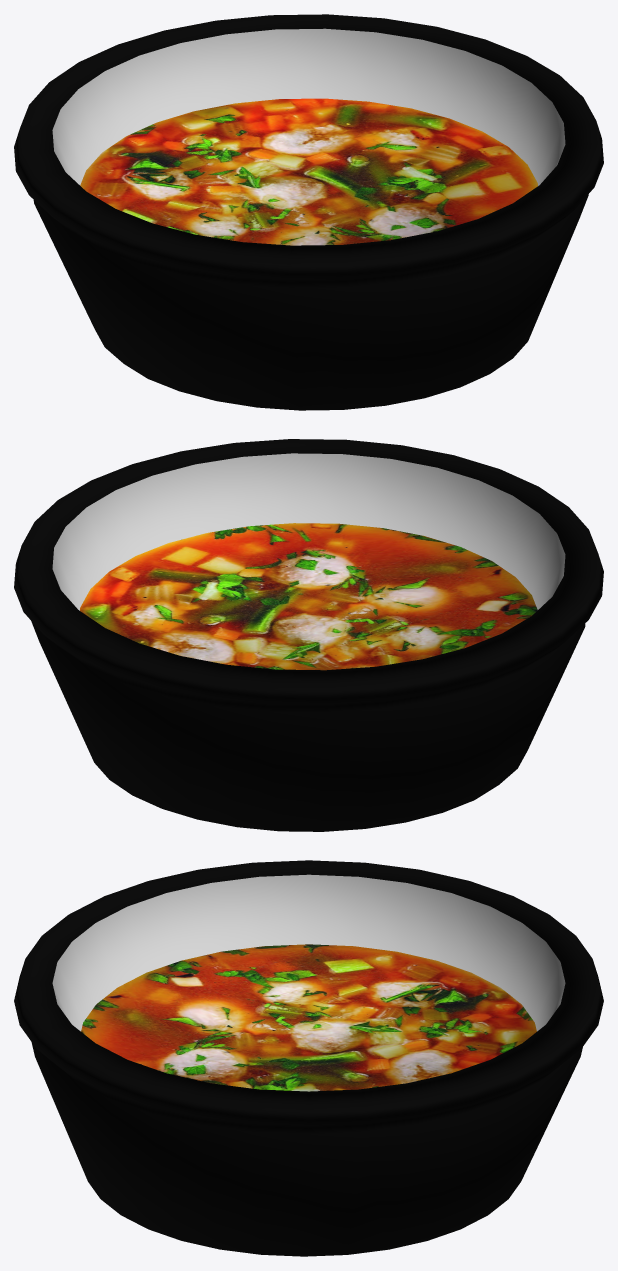
File: Minestrone.fbx
3 renders of one model, top to bottom at view 1: azimuth 30°, elevation 25°; view 2: azimuth 150°, elevation 25°; view 3: azimuth 270°, elevation 25°, orthographic.
Parts seen in each view (by area): view 1: Circle; view 2: Circle; view 3: Circle.
Boxes of the visible parts, <box> form: Circle: <box>14,14,603,410</box>; Circle: <box>14,439,603,831</box>; Circle: <box>14,860,603,1256</box>.
Bounding box in the file's own units: 58.05 × 19.47 × 58.05.
3 materials, 1 textured.
